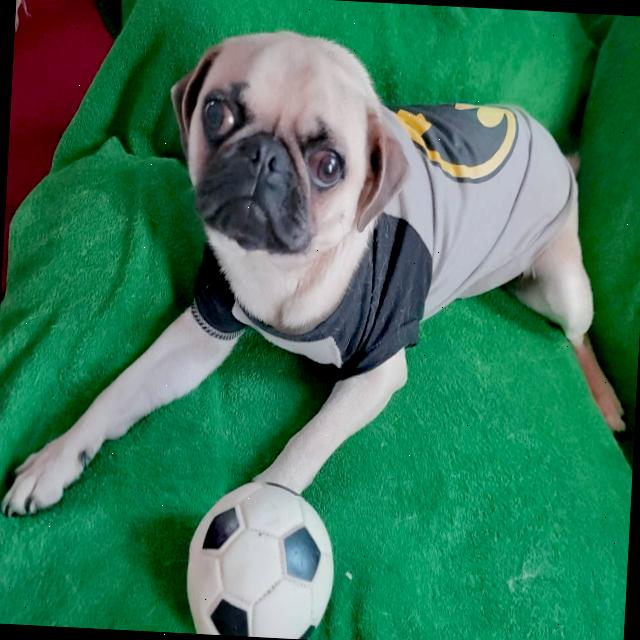pug_dog: (152, 11, 424, 278)
